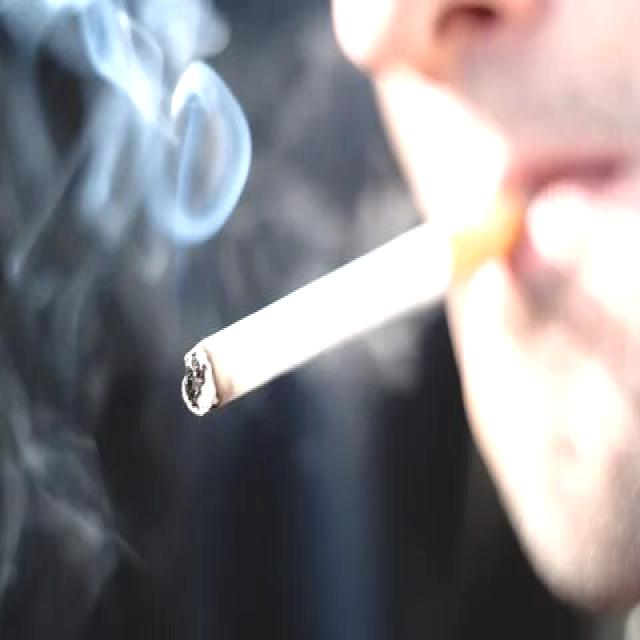cigarette: (176, 180, 528, 422)
